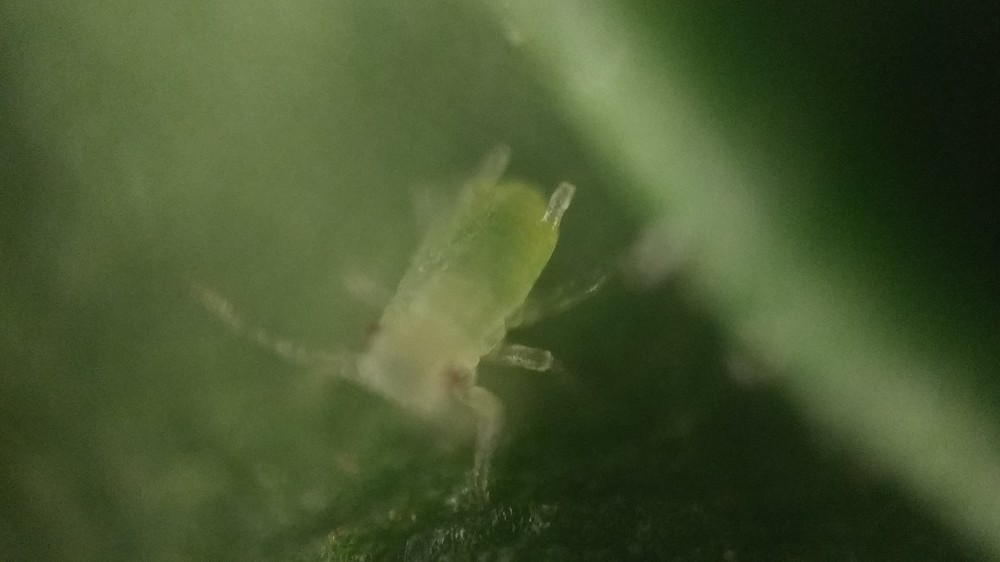Pulgon: (236, 135, 661, 511)
